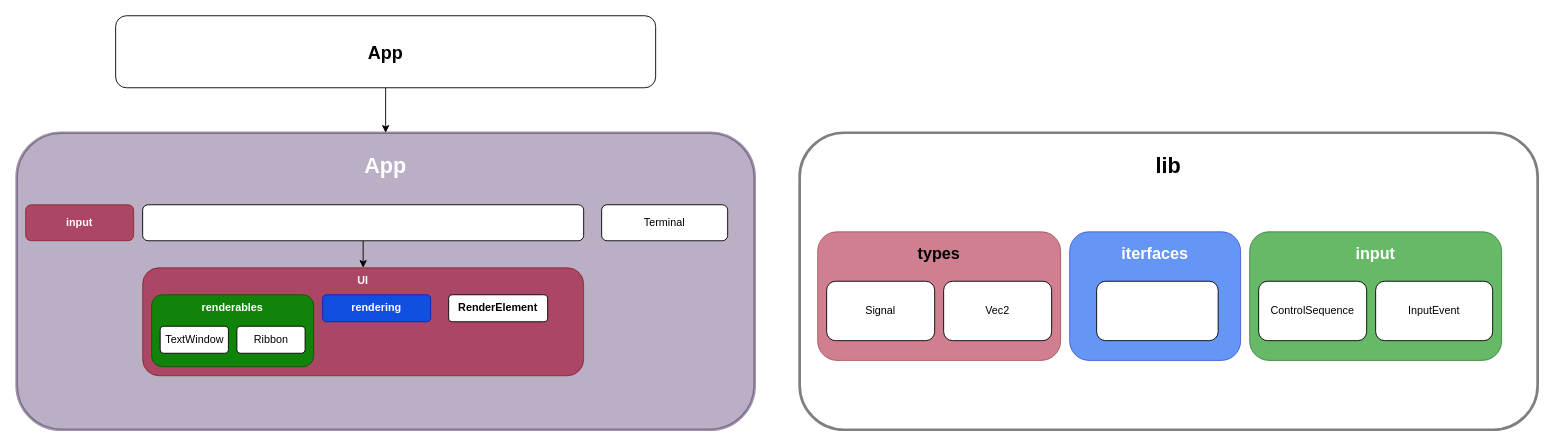
The diagram is 1554 pixels wide and 446 high, and some of its shapes have lost their labels. The shapes that lost their labels are listed below. From the top down, each one's centre as x and y in pixels, then its label:
At pixel 363 222: "UIHandler".
At pixel 1157 310: "Renderable".
